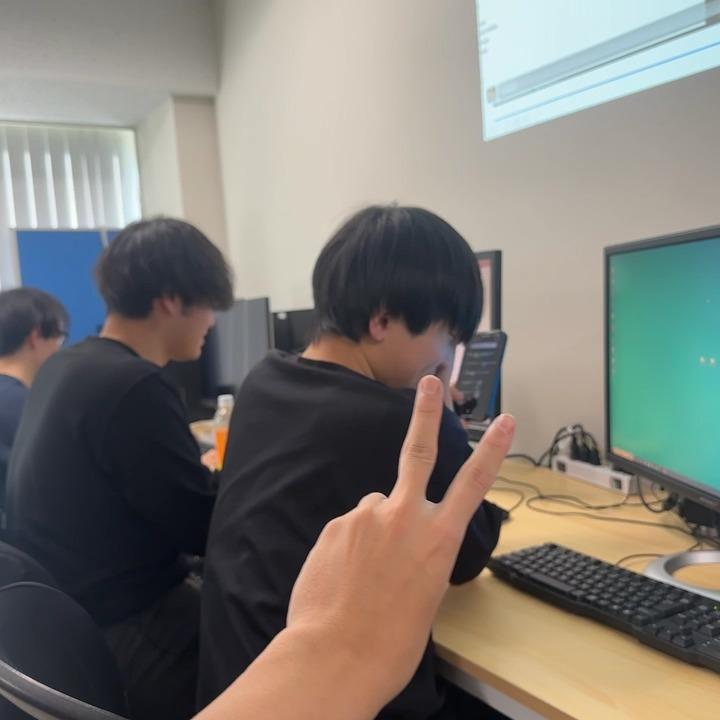without_gloves: (218, 363, 544, 711)
